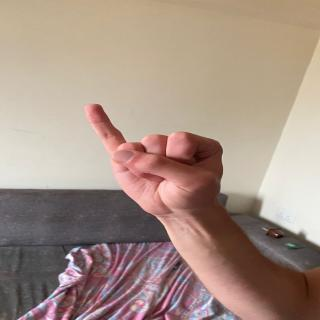MEEM: (78, 95, 238, 208)
